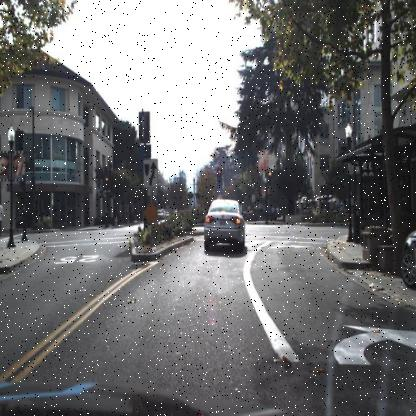car: (203, 199, 245, 253), (402, 225, 416, 292)
trafficLight-Red: (215, 166, 224, 188), (101, 171, 110, 192), (104, 176, 109, 195), (218, 168, 223, 184), (268, 171, 272, 185)
